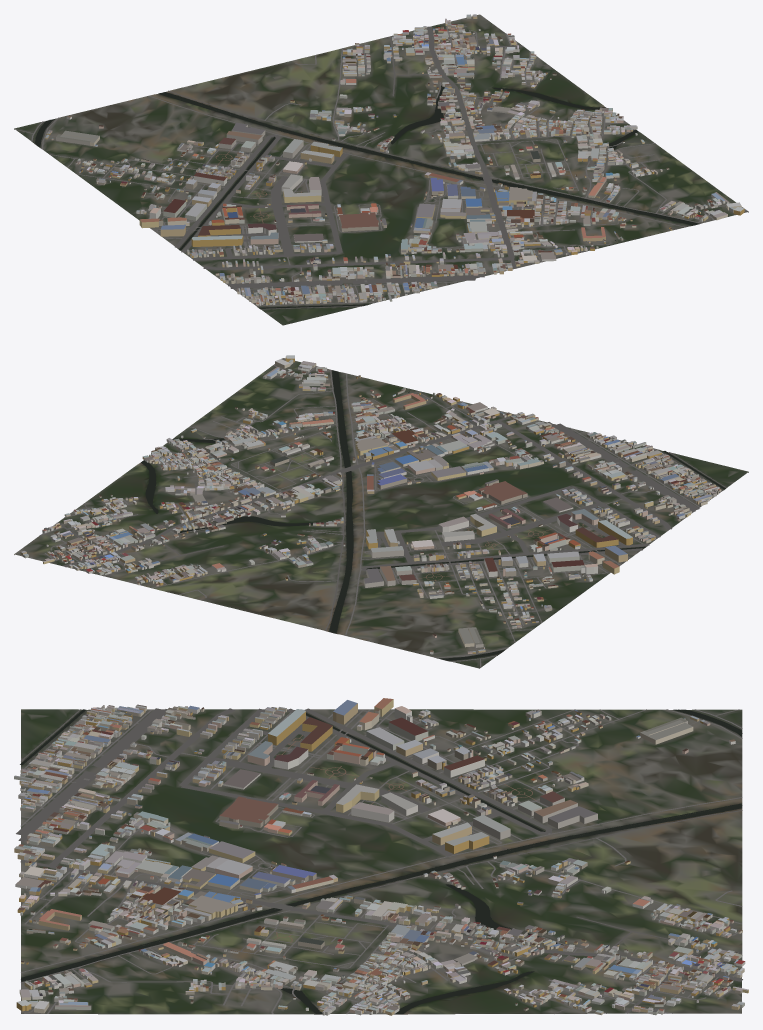
The picture shows the model from 3 angles, top to bottom: view 1: azimuth 30°, elevation 25°; view 2: azimuth 150°, elevation 25°; view 3: azimuth 270°, elevation 25°; orthographic projection. The views are drawn at different scales.
Visible parts, largest first — view 1: ground, buildings, roads, water; view 2: ground, buildings, roads, water; view 3: ground, buildings, roads, water.
Part boxes in pixels (x1=…): ground: x1=14, y1=14, x2=748, y2=325; buildings: x1=45, y1=14, x2=744, y2=305; roads: x1=15, y1=18, x2=747, y2=309; water: x1=35, y1=85, x2=698, y2=308; ground: x1=14, y1=358, x2=748, y2=668; buildings: x1=20, y1=355, x2=721, y2=654; roads: x1=30, y1=358, x2=726, y2=667; water: x1=141, y1=370, x2=725, y2=660; ground: x1=21, y1=709, x2=742, y2=1014; buildings: x1=14, y1=698, x2=748, y2=1015; roads: x1=16, y1=708, x2=742, y2=1014; water: x1=20, y1=709, x2=742, y2=1013.
Size of the model in its own units: 1424 by 24.96 by 1427.
